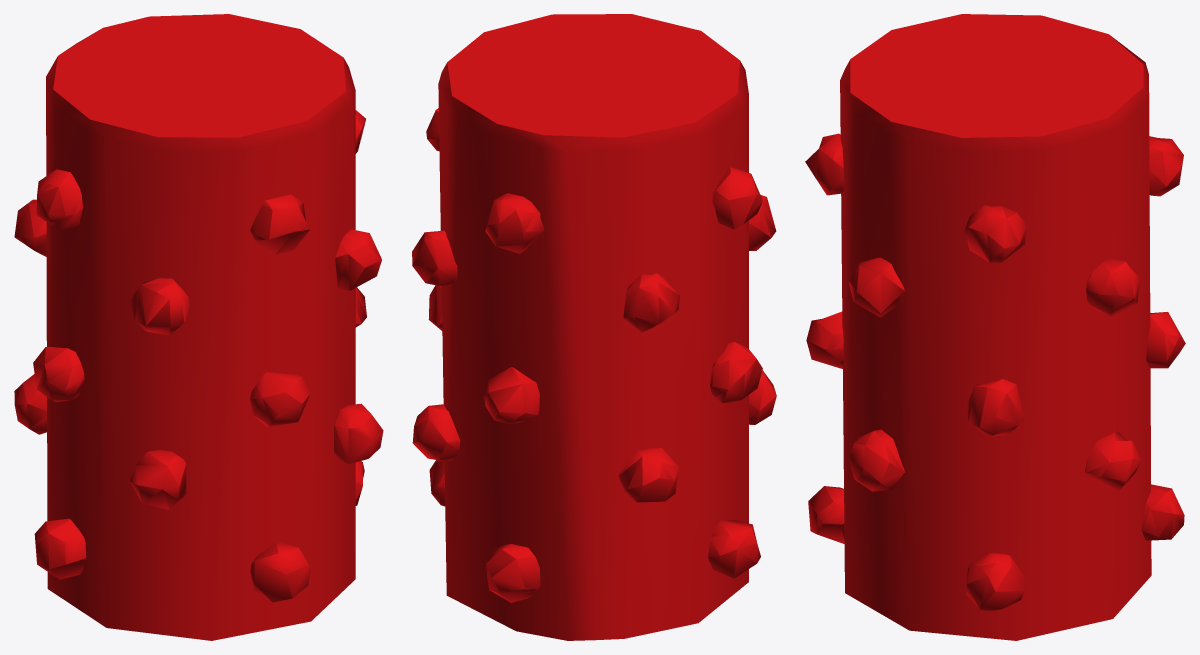
File: barrier3 (1).fbx
3 views of the same model, side by side, from view 1: azimuth 30°, elevation 25°; view 2: azimuth 150°, elevation 25°; view 3: azimuth 270°, elevation 25° (orthographic).
Parts seen in each view (by area): view 1: Object001; view 2: Object001; view 3: Object001.
Boxes of the visible parts, x1,y1,x2,y2 form: Object001: (14, 14, 383, 640); Object001: (412, 14, 776, 640); Object001: (805, 14, 1185, 640).
Size of the model in its own units: 1312 by 1909 by 1318.
